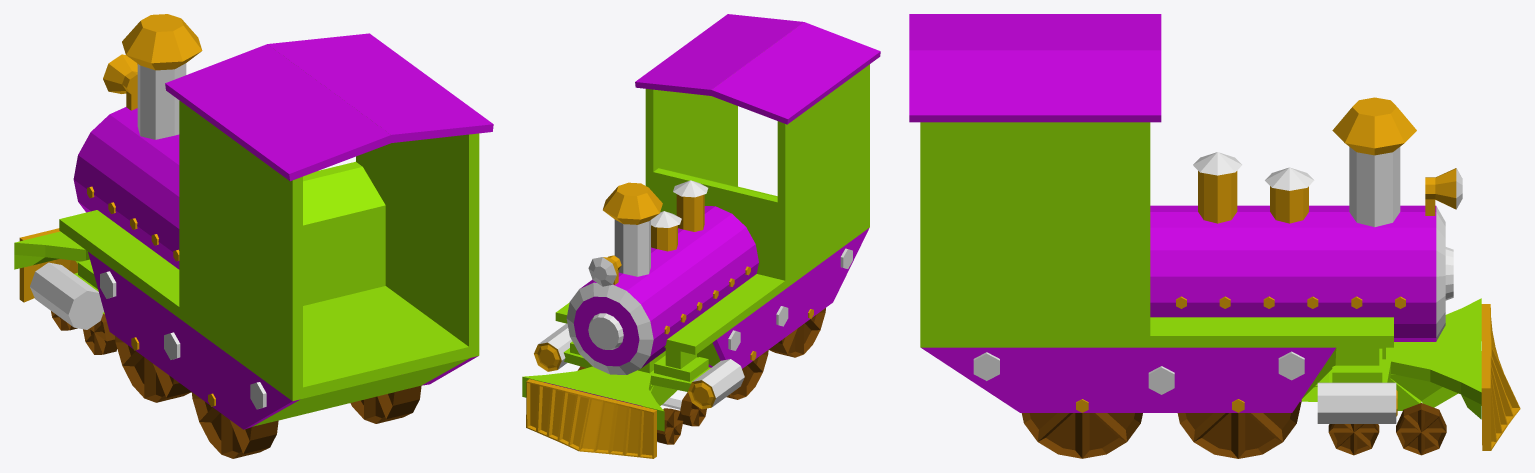
Rendered from jokertrain.fbx.
3 views of the same model, side by side, from view 1: azimuth 30°, elevation 25°; view 2: azimuth 150°, elevation 25°; view 3: azimuth 270°, elevation 25° (orthographic). The views are drawn at different scales.
Visible parts, largest first — view 1: Base, Bottom, Cylinder; view 2: Base, Bottom, Cylinder; view 3: Base, Bottom, Cylinder.
Boxes of the visible parts, left/top/right/bottom form: Base: left=59, top=33, right=493, bottom=401; Bottom: left=14, top=228, right=478, bottom=458; Cylinder: left=73, top=14, right=202, bottom=269; Base: left=555, top=14, right=880, bottom=354; Bottom: left=522, top=228, right=869, bottom=458; Cylinder: left=566, top=180, right=758, bottom=374; Base: left=909, top=14, right=1393, bottom=347; Bottom: left=921, top=298, right=1520, bottom=458; Cylinder: left=1150, top=97, right=1462, bottom=341.
Size of the model in its own units: 902 by 1279 by 1932.
